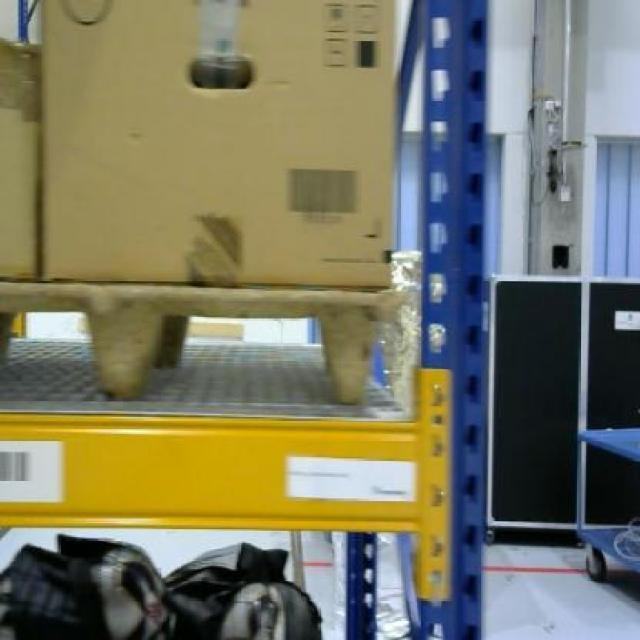box: (36, 1, 392, 284)
